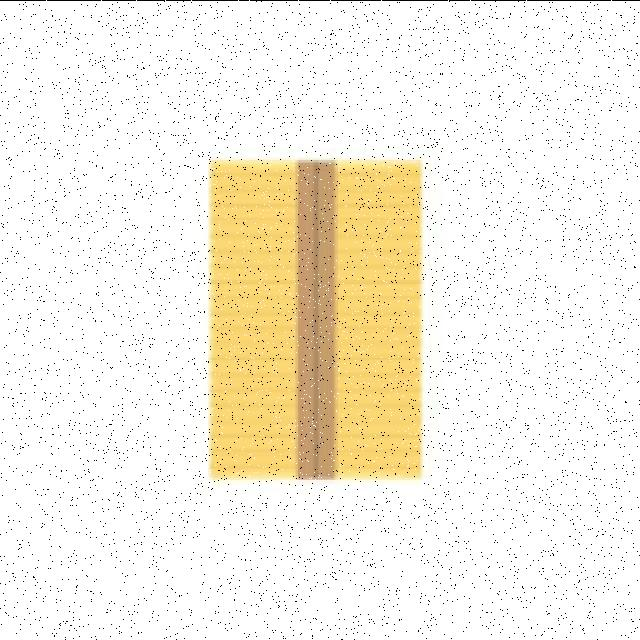normal: (208, 154, 429, 488)
